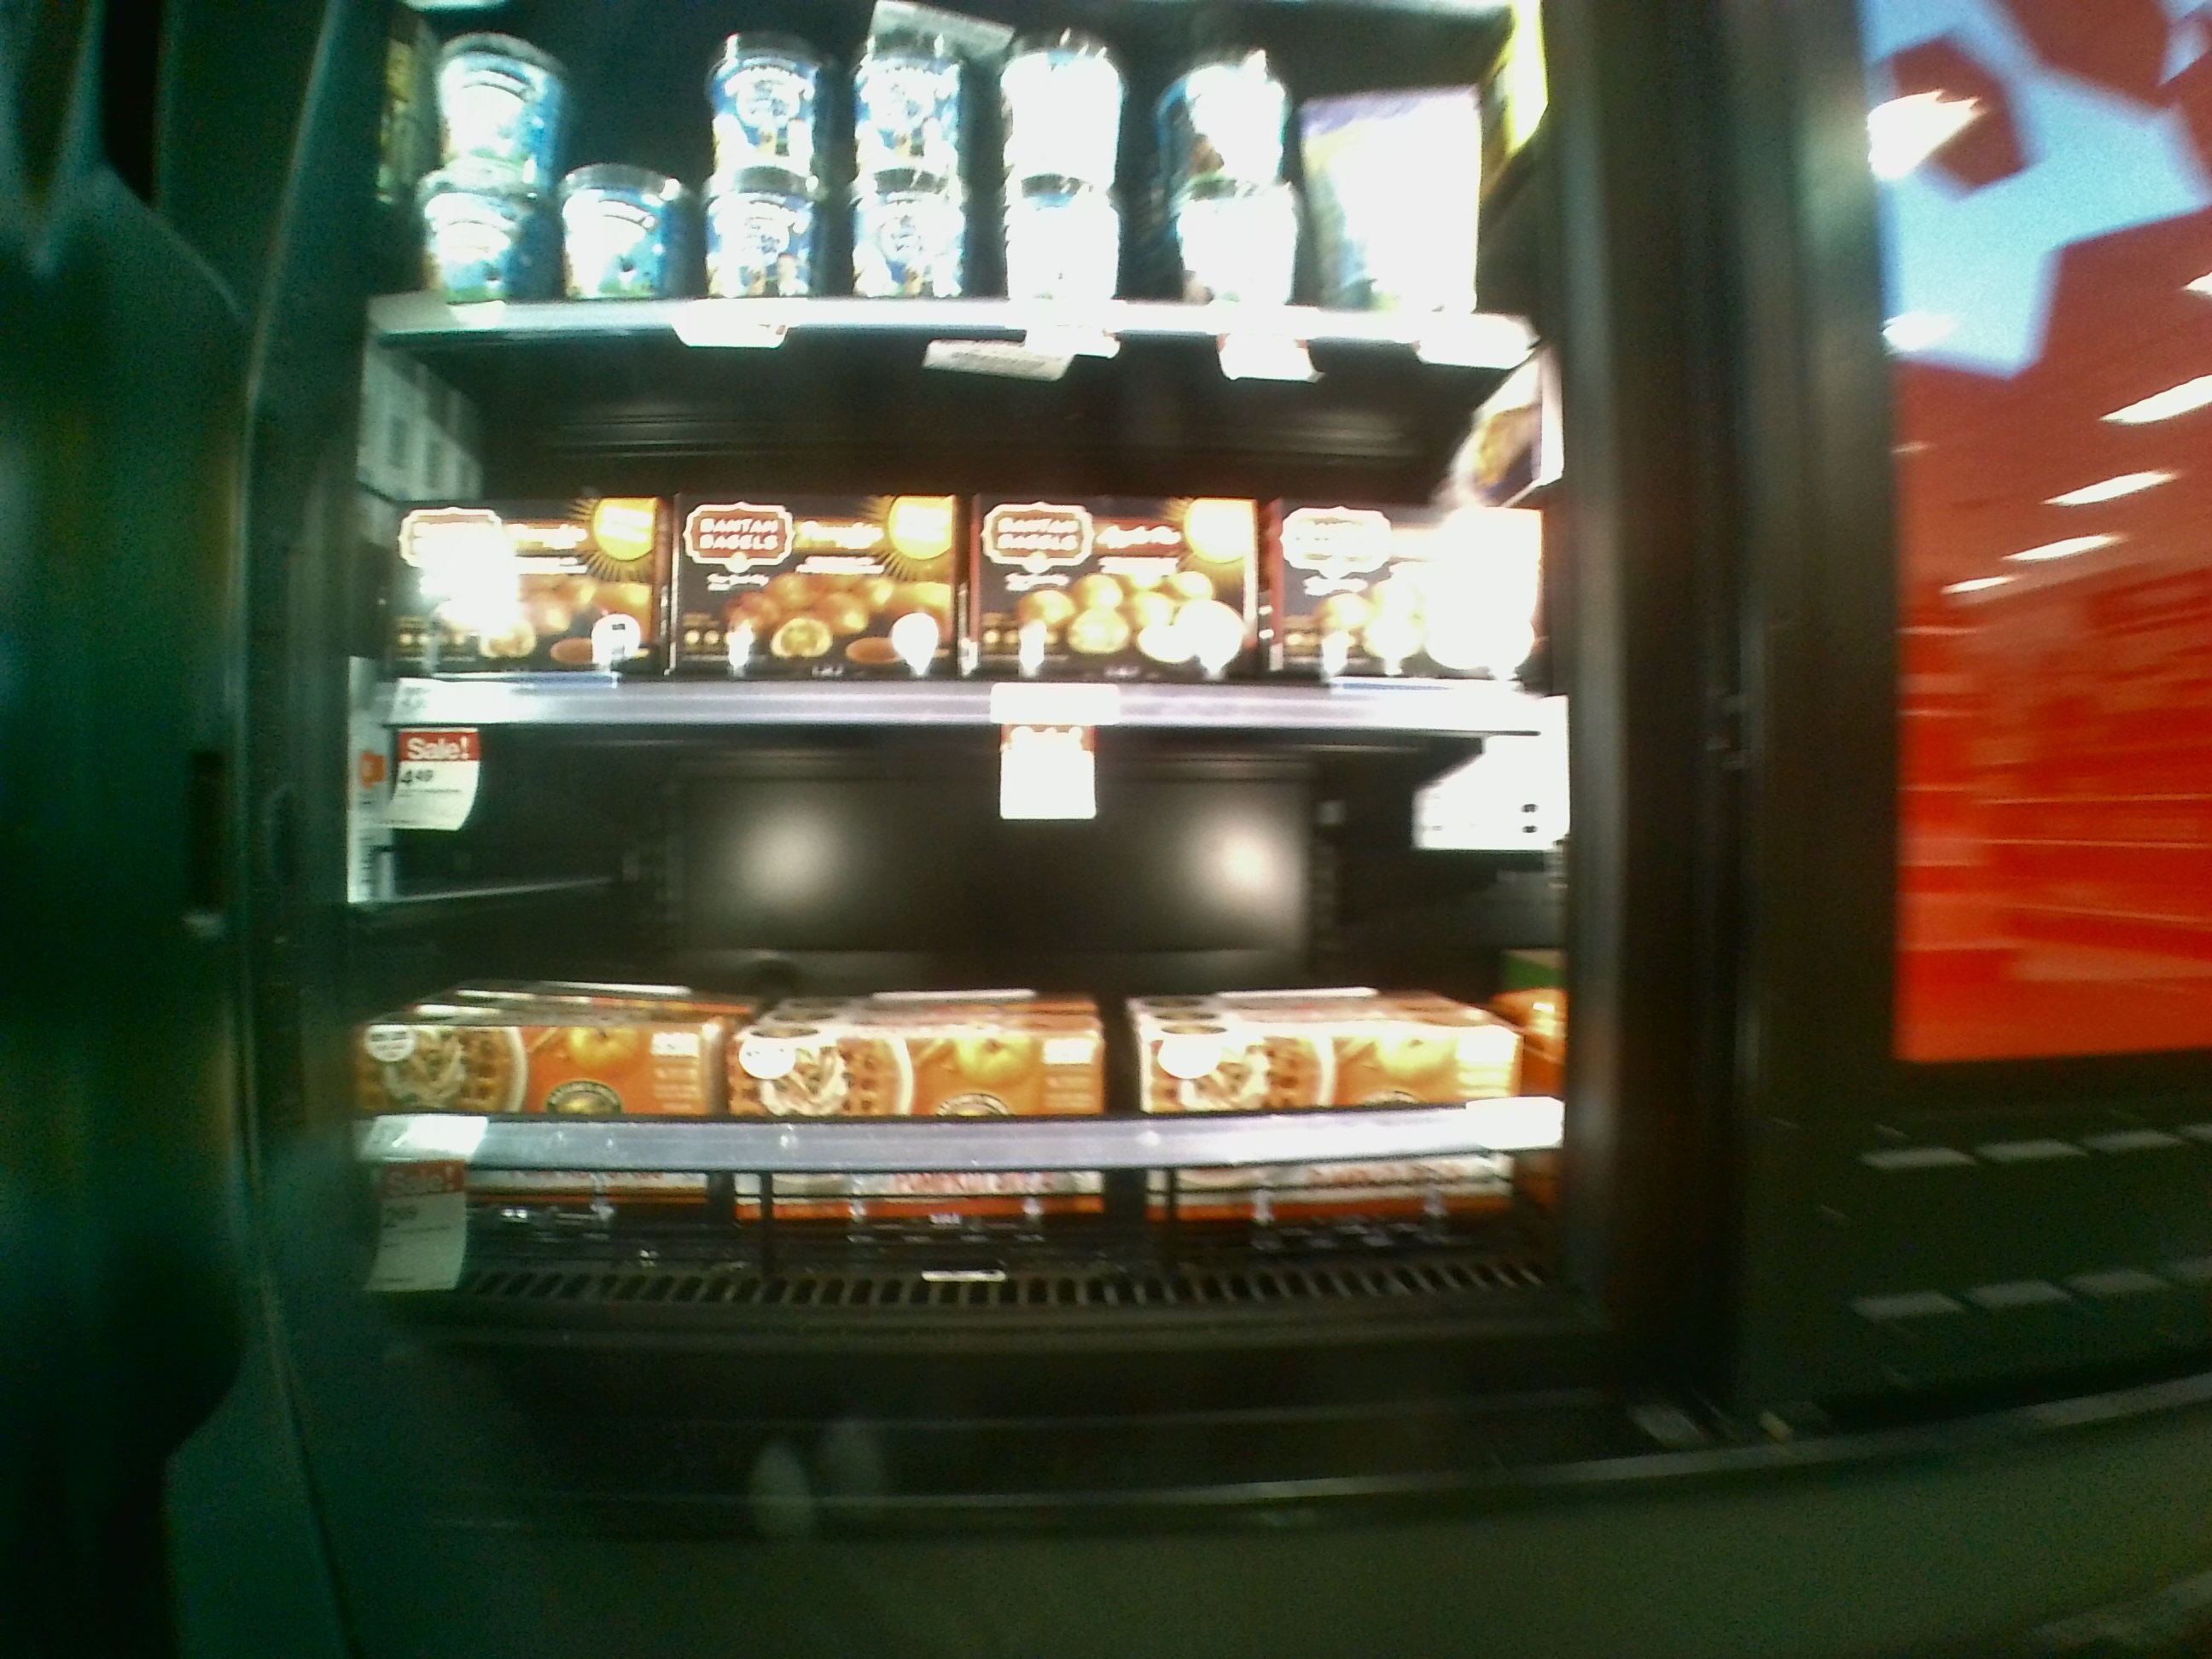shelf: (347, 695, 1575, 1309), (361, 333, 1569, 741)
